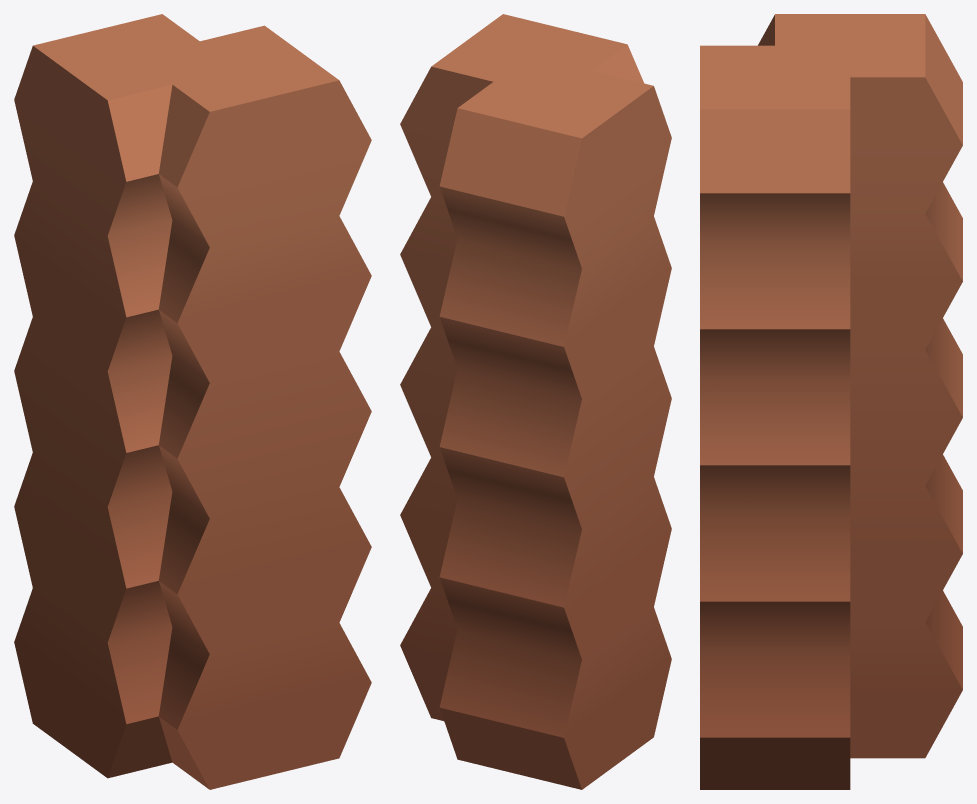
Rendered from cabin-corner-logs.glb.
The picture shows the model from 3 angles, left to right: view 1: azimuth 30°, elevation 25°; view 2: azimuth 150°, elevation 25°; view 3: azimuth 270°, elevation 25°; orthographic projection. The views are drawn at different scales.
Parts seen in each view (by area): view 1: cabin-corner-logs; view 2: cabin-corner-logs; view 3: cabin-corner-logs.
Boxes of the visible parts, box(x1,y1,x2,y2) form: cabin-corner-logs: box(14, 14, 371, 789); cabin-corner-logs: box(400, 14, 671, 789); cabin-corner-logs: box(700, 14, 962, 789).
Bounding box in the file's own units: 0.35 × 1 × 0.35.
